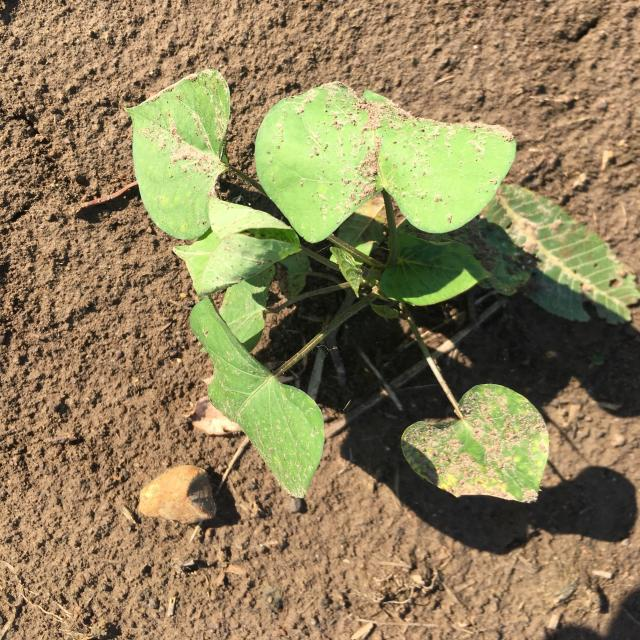MorningGlory: (124, 69, 549, 504)
